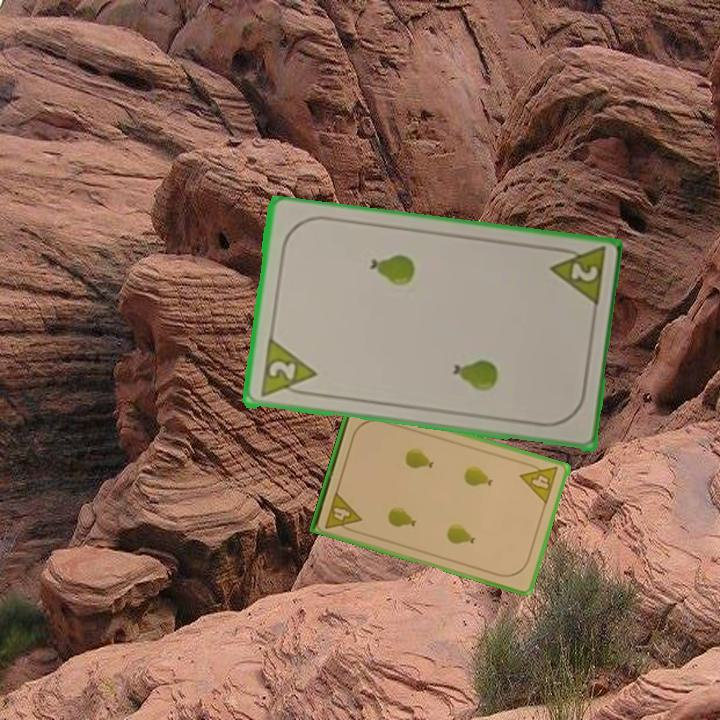2p: (546, 243, 608, 311), (256, 337, 319, 401)
4p: (517, 458, 561, 507), (321, 488, 364, 536)
